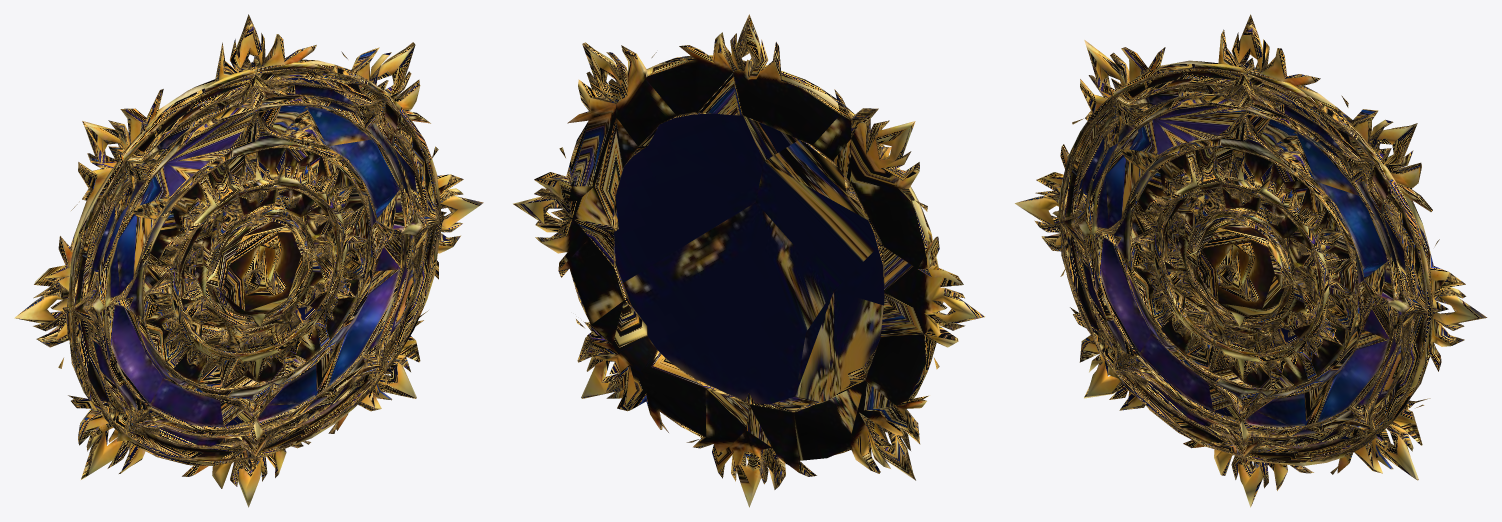
The model's file is Halo of the Leo Sovereign Lite.glb.
3 views of the same model, side by side, from view 1: azimuth 30°, elevation 25°; view 2: azimuth 150°, elevation 25°; view 3: azimuth 330°, elevation 25° (orthographic).
Parts seen in each view (by area): view 1: node_0; view 2: node_0; view 3: node_0.
Part boxes in pixels (box(x1,y1,x2,y2)): node_0: box(14, 14, 483, 507); node_0: box(513, 14, 984, 507); node_0: box(1015, 14, 1487, 507).
Bounding box in the file's own units: 1.18 × 1.18 × 0.073.
Materials: 1 (1 with a texture image).
